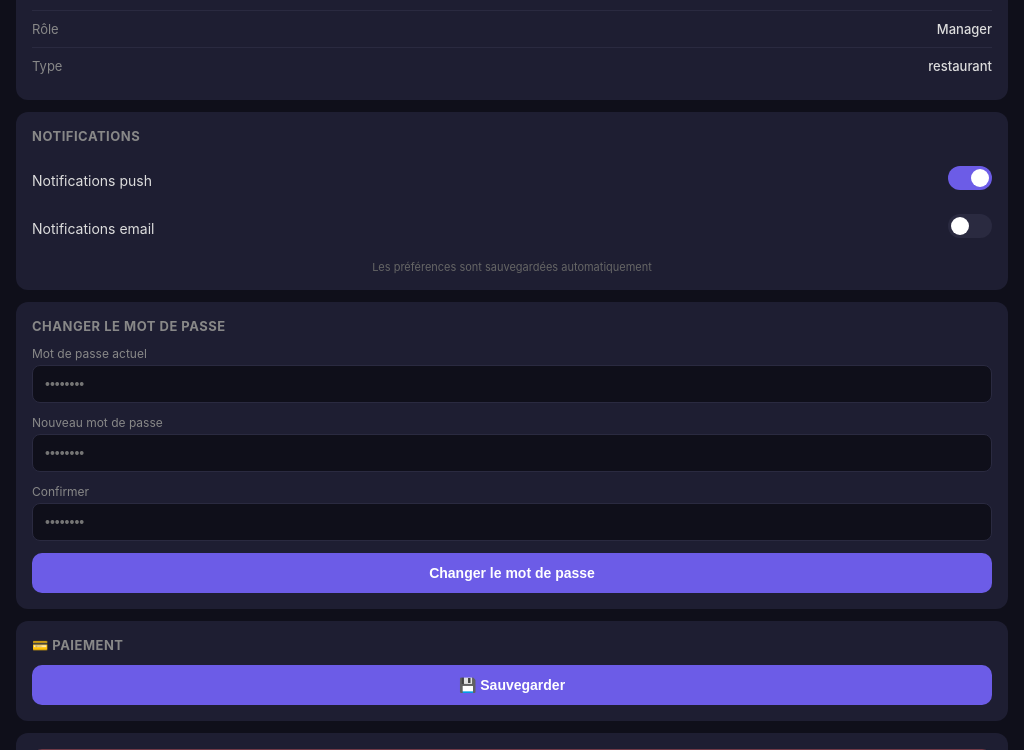
Profile.vue › changePassword validation › refuse si le mot de passe actuel est manquant
(page scrolled)
Type "newpass" into the password field with placeholder "••••••••" below "Nouveau mot de passe" at (512, 453), box [32,434,992,472]
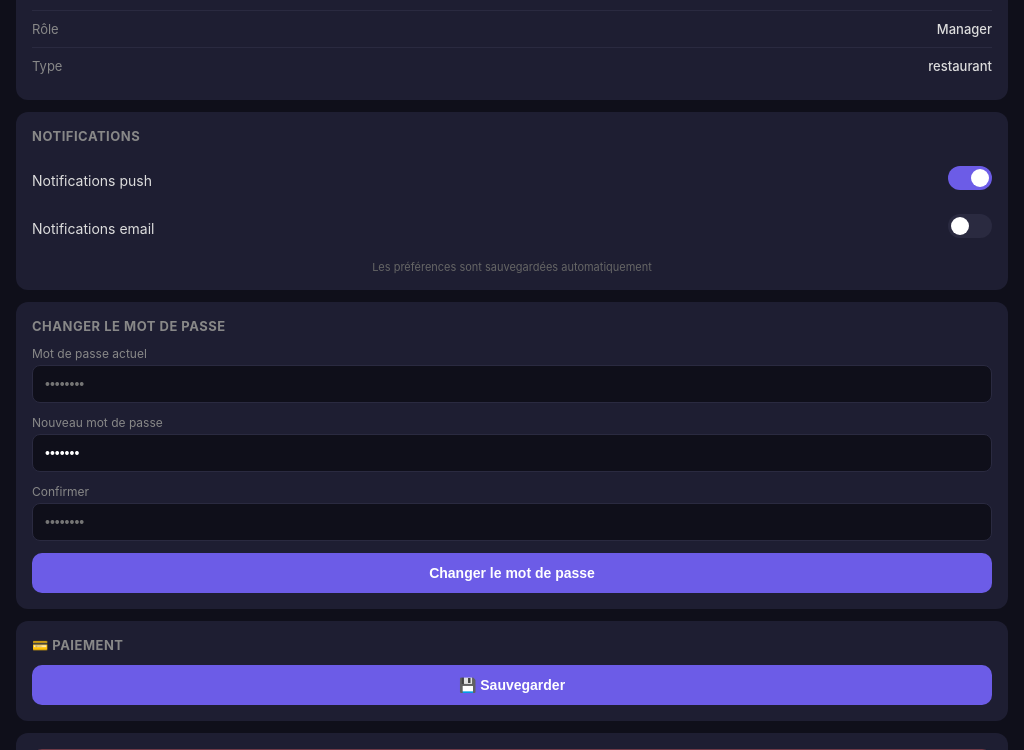
Type "newpass" into the password field with placeholder "••••••••" below "Confirmer" at (512, 522), box [32,503,992,541]
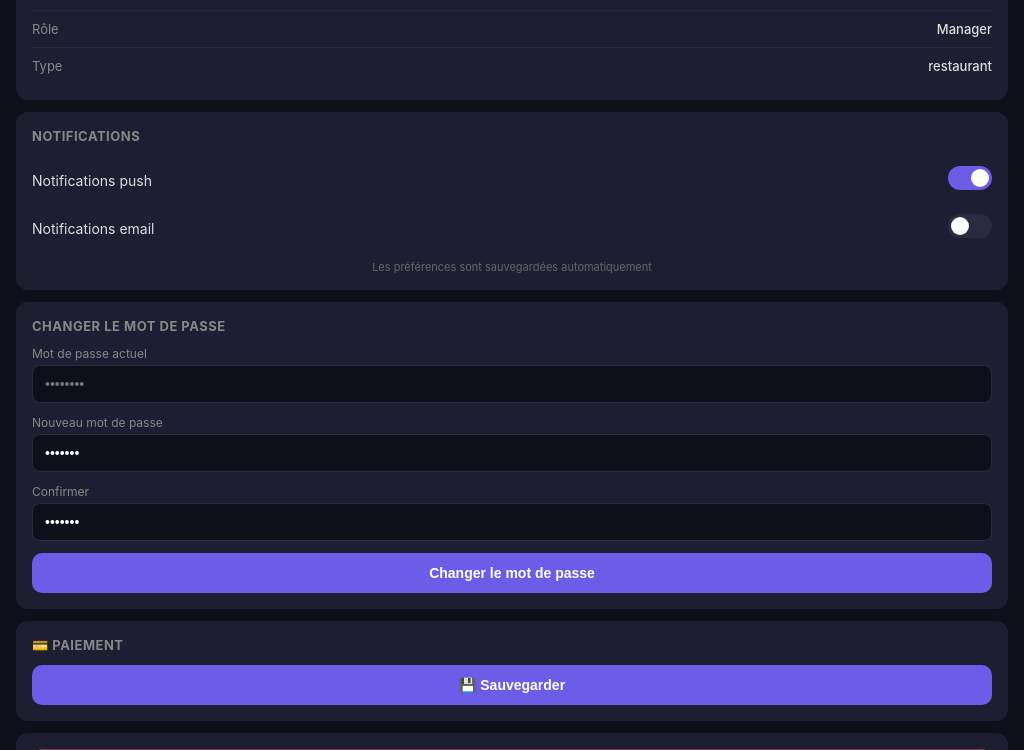
Click the button with class "btn-save" showing "Changer le mot de passe" at (512, 573), box [32,553,992,593]
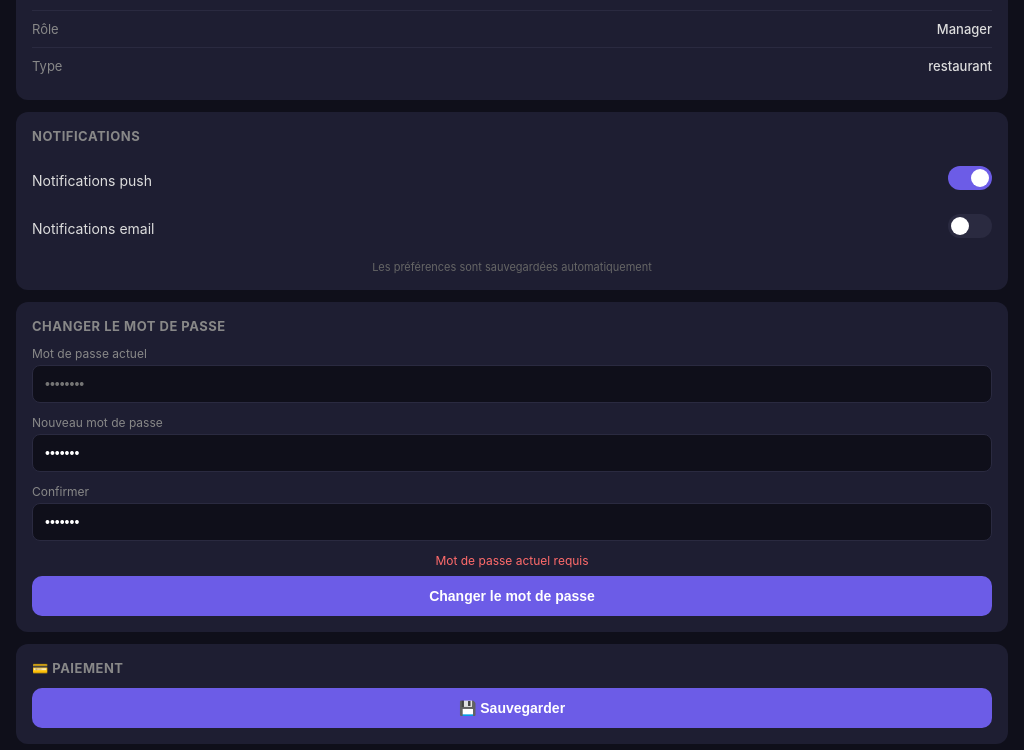
Now the text "Mot de passe actuel requis" is shown, box [435,553,589,568]
